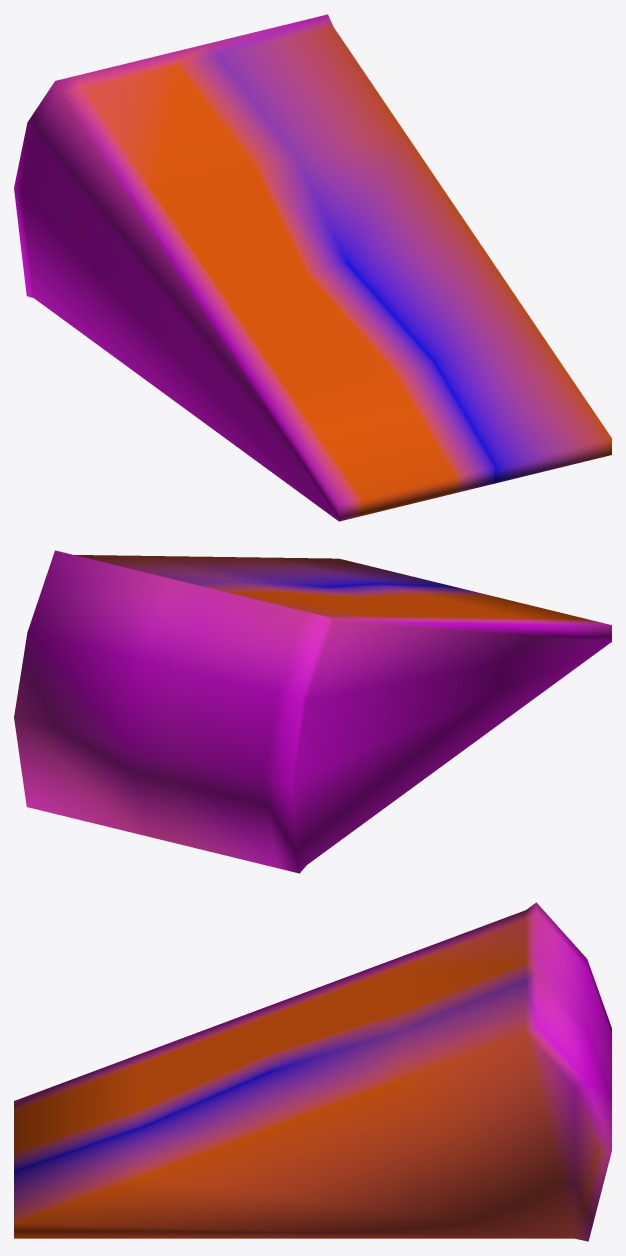
Rendered from cake.fbx.
The picture shows the model from 3 angles, top to bottom: view 1: azimuth 30°, elevation 25°; view 2: azimuth 150°, elevation 25°; view 3: azimuth 270°, elevation 25°; orthographic projection. The views are drawn at different scales.
Visible parts, largest first — view 1: Cake; view 2: Cake; view 3: Cake.
Part boxes in pixels (left/top/right/bottom): Cake: left=14, top=14, right=611, bottom=521; Cake: left=14, top=550, right=611, bottom=873; Cake: left=14, top=902, right=611, bottom=1241.
Bounding box in the file's own units: 87.11 × 71.94 × 180.
